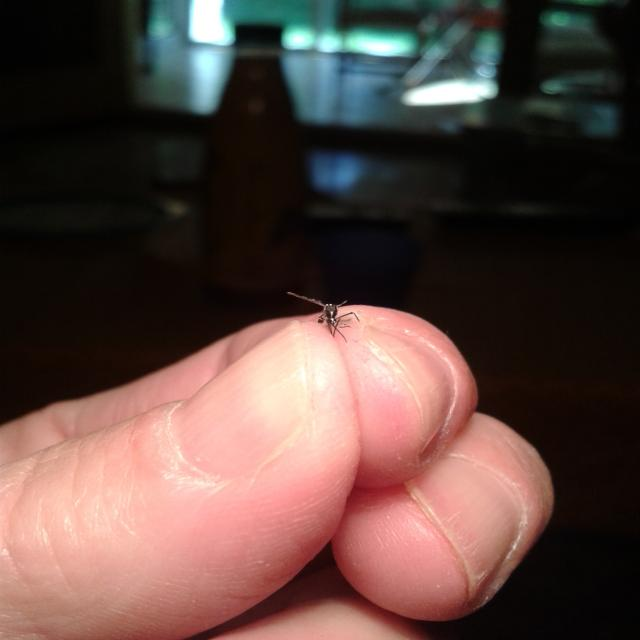albopictus: (278, 286, 361, 346)
